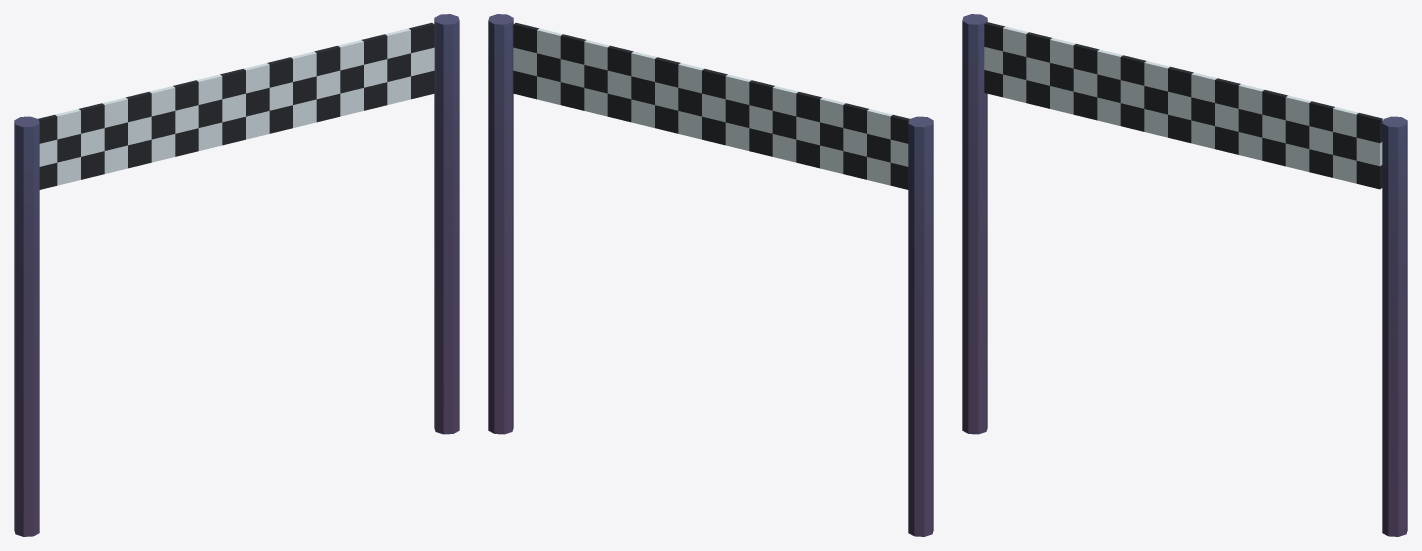
File: Finish segment.001.fbx
The picture shows the model from 3 angles, left to right: view 1: azimuth 30°, elevation 25°; view 2: azimuth 150°, elevation 25°; view 3: azimuth 330°, elevation 25°; orthographic projection.
Visible parts, largest first — view 1: Finish segment.001; view 2: Finish segment.001; view 3: Finish segment.001.
Part boxes in pixels (<box>): Finish segment.001: <box>14,14,459,536</box>; Finish segment.001: <box>488,14,933,536</box>; Finish segment.001: <box>962,14,1407,536</box>.
Size of the model in its own units: 3323 by 2937 by 172.
